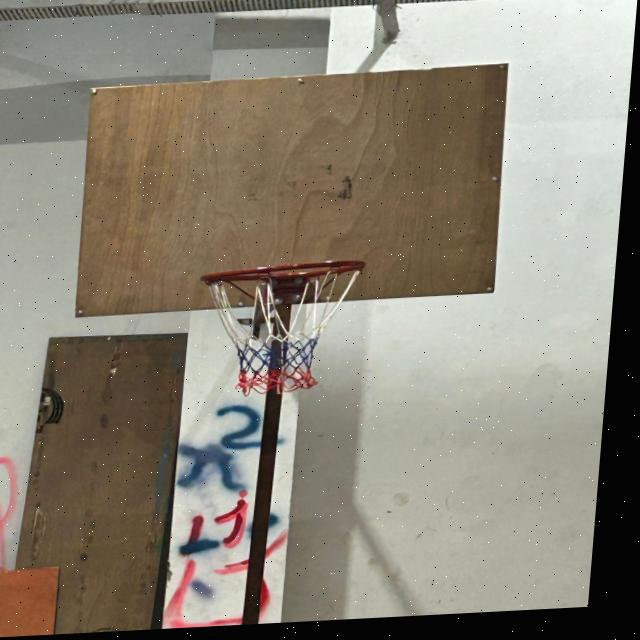hoop: (176, 250, 431, 442)
